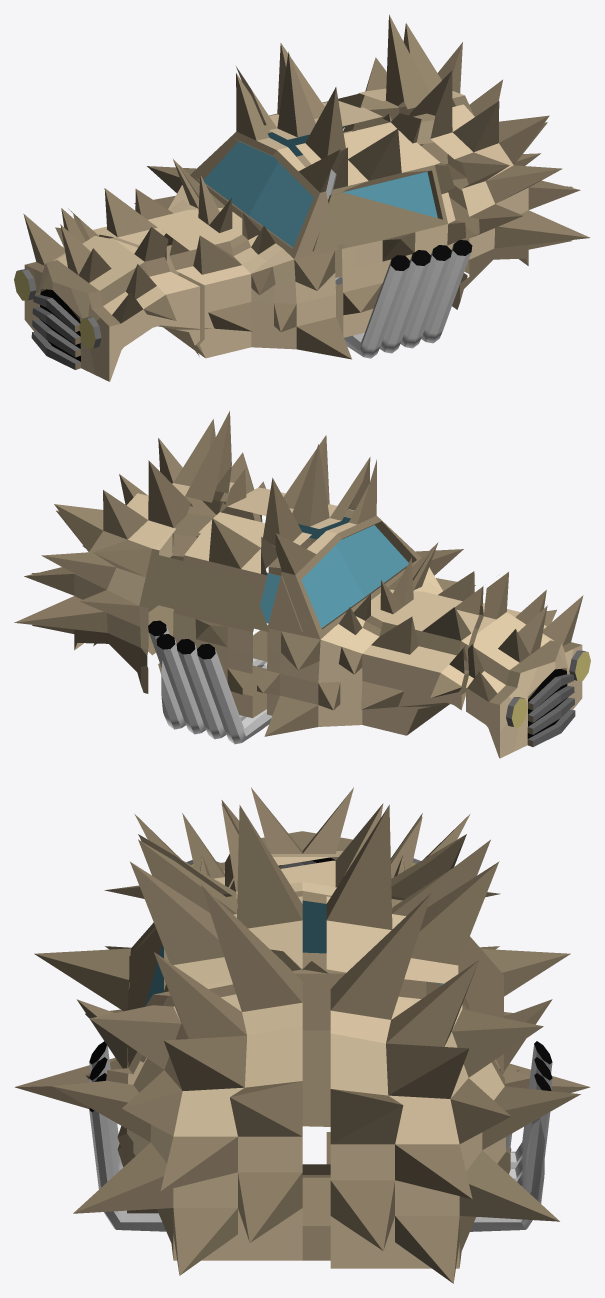
The model's file is Spiky Destrcut.fbx.
The picture shows the model from 3 angles, top to bottom: view 1: azimuth 30°, elevation 25°; view 2: azimuth 150°, elevation 25°; view 3: azimuth 270°, elevation 25°; orthographic projection. The views are drawn at different scales.
Visible parts, largest first — view 1: polySurface10, polySurface23, polySurface7, polySurface24, polySurface25, polySurface20; view 2: polySurface10, polySurface25, polySurface20, polySurface7, polySurface24, polySurface23; view 3: polySurface25, polySurface24, polySurface23, polySurface10, polySurface20, polySurface7.
Boxes of the visible parts, <box> form: polySurface10: <box>55,73,351,359</box>; polySurface23: <box>295,87,472,358</box>; polySurface7: <box>14,208,199,381</box>; polySurface24: <box>409,70,590,309</box>; polySurface25: <box>269,14,540,209</box>; polySurface20: <box>236,43,382,285</box>; polySurface10: <box>257,459,484,736</box>; polySurface25: <box>14,460,269,693</box>; polySurface20: <box>156,477,311,744</box>; polySurface7: <box>466,572,590,758</box>; polySurface24: <box>82,411,262,655</box>; polySurface23: <box>219,435,370,668</box>; polySurface25: <box>330,892,580,1283</box>; polySurface24: <box>52,884,330,1275</box>; polySurface23: <box>76,805,328,1231</box>; polySurface10: <box>14,803,590,1126</box>; polySurface20: <box>302,804,552,1231</box>; polySurface7: <box>104,787,470,898</box>.
Size of the model in its own units: 19.31 by 8.63 by 11.78.
